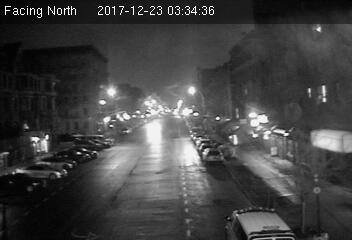car: (200, 147, 224, 164)
police: (221, 203, 304, 240)
